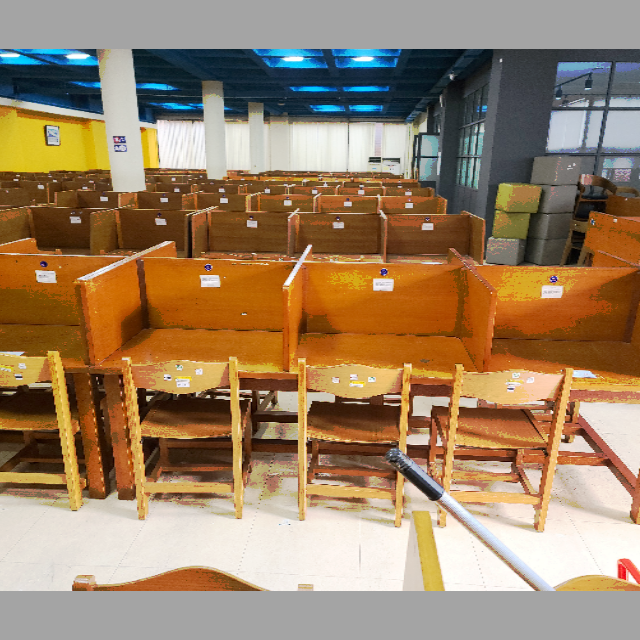empty: (296, 255, 480, 446), (89, 271, 288, 434), (488, 255, 640, 450)
